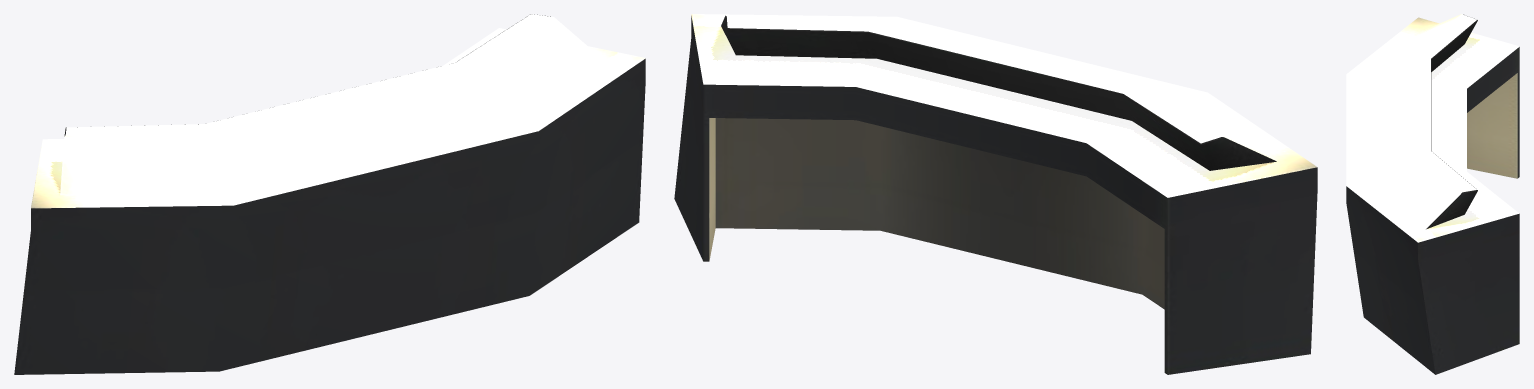
File: SecurityDesk.fbx
3 views of the same model, side by side, from view 1: azimuth 30°, elevation 25°; view 2: azimuth 150°, elevation 25°; view 3: azimuth 270°, elevation 25° (orthographic). The views are drawn at different scales.
Visible parts, largest first — view 1: Security_Desk; view 2: Security_Desk; view 3: Security_Desk.
Part boxes in pixels (x1,y1,x2,y2): Security_Desk: (14,14,645,374); Security_Desk: (674,14,1317,374); Security_Desk: (1346,14,1519,374).
Size of the model in its own units: 462 by 148 by 148.
Materials: 1 (1 with a texture image).
